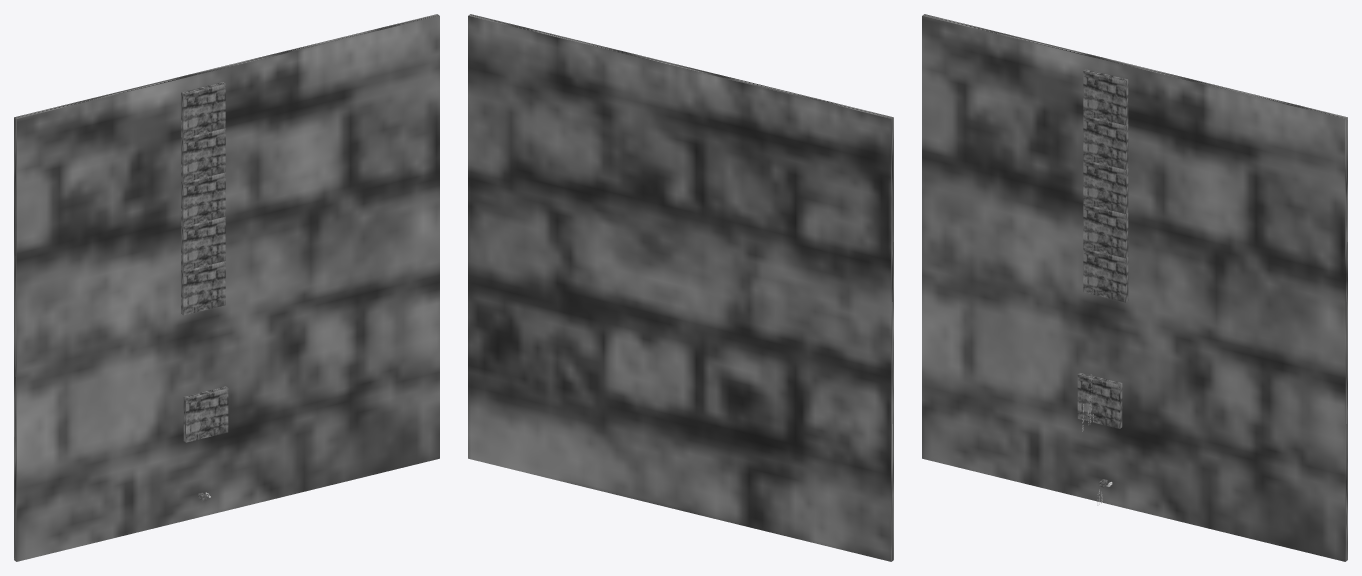
The model's file is mimita metric sizing.glb.
3 renders of one model, left to right at view 1: azimuth 30°, elevation 25°; view 2: azimuth 150°, elevation 25°; view 3: azimuth 330°, elevation 25°, orthographic.
Visible parts, largest first — view 1: Cube, Cube.002, Cube.007, Cube.003, Cube.005, Cube.006, Cube.004; view 2: Cube; view 3: Cube, Cube.007, Cube.002, Cube.005, Cube.006, Cube.003, Cube.004.
Part boxes in pixels (left/top/right/bottom): Cube: left=14, top=14, right=439, bottom=561; Cube.002: left=183, top=386, right=228, bottom=442; Cube.007: left=181, top=82, right=225, bottom=138; Cube.003: left=181, top=261, right=225, bottom=315; Cube.005: left=181, top=172, right=225, bottom=226; Cube.006: left=181, top=128, right=225, bottom=182; Cube.004: left=181, top=216, right=225, bottom=270; Cube: left=468, top=14, right=893, bottom=561; Cube: left=922, top=14, right=1347, bottom=561; Cube.007: left=1083, top=69, right=1128, bottom=125; Cube.002: left=1077, top=372, right=1122, bottom=428; Cube.005: left=1083, top=159, right=1128, bottom=213; Cube.006: left=1083, top=115, right=1128, bottom=169; Cube.003: left=1083, top=248, right=1128, bottom=302; Cube.004: left=1083, top=204, right=1128, bottom=258.
Size of the model in its own units: 200 by 200 by 23.01.
1 material, 1 textured.
